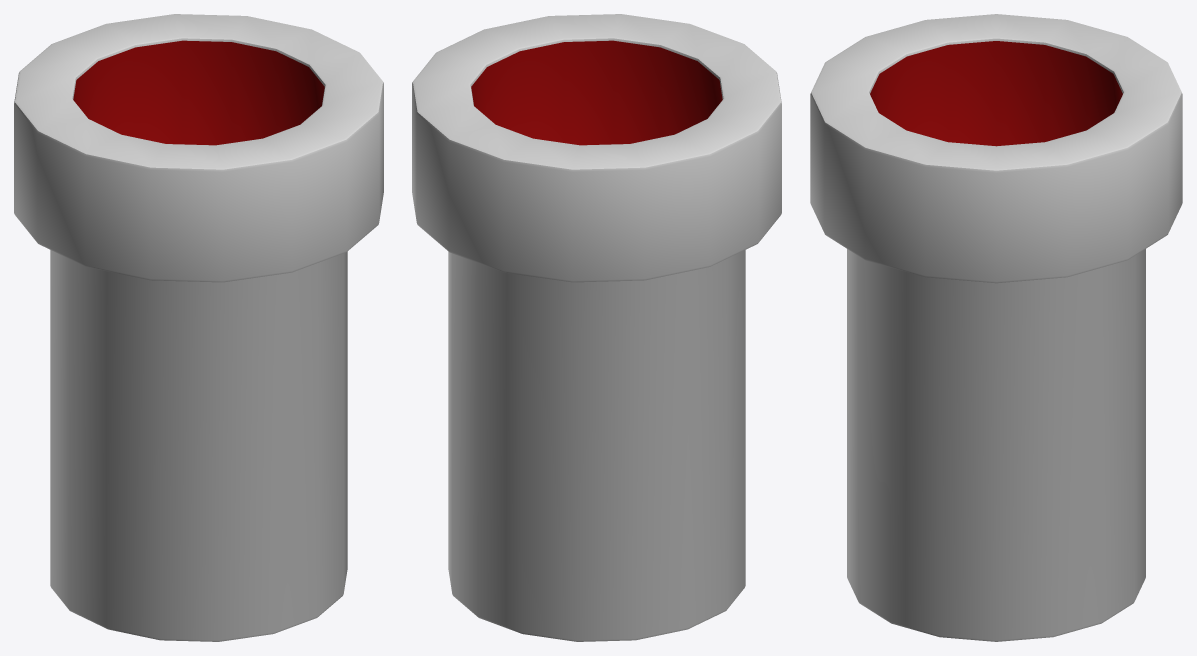
File: pipe_low.fbx
The picture shows the model from 3 angles, left to right: view 1: azimuth 30°, elevation 25°; view 2: azimuth 150°, elevation 25°; view 3: azimuth 270°, elevation 25°; orthographic projection.
Visible parts, largest first — view 1: Pipe_low; view 2: Pipe_low; view 3: Pipe_low.
Boxes of the visible parts, box(x1,y1,x2,y2) form: Pipe_low: box(14, 14, 383, 641); Pipe_low: box(412, 14, 781, 641); Pipe_low: box(810, 14, 1182, 641).
Size of the model in its own units: 124 by 180 by 124.
